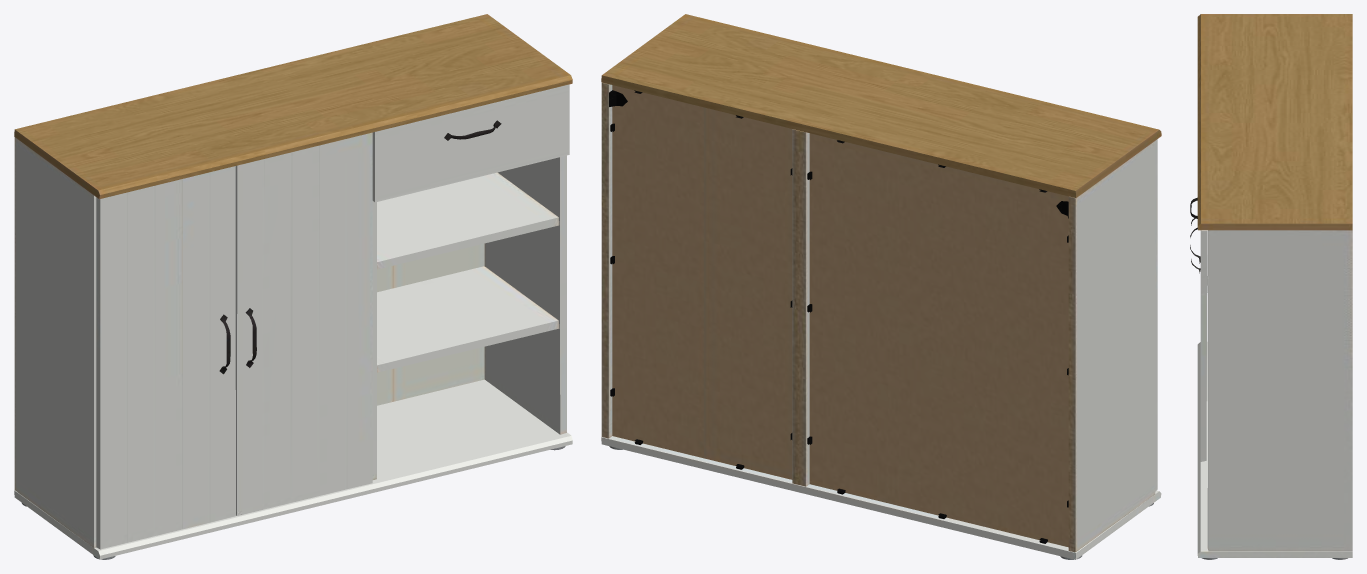
Rendered from 16 - SKRUVBY Sideboard - white 120x38x90 cm.glb.
3 views of the same model, side by side, from view 1: azimuth 30°, elevation 25°; view 2: azimuth 150°, elevation 25°; view 3: azimuth 270°, elevation 25° (orthographic). The views are drawn at different scales.
Visible parts, largest first — view 1: 60568725-SKRUVBY001; view 2: 60568725-SKRUVBY001; view 3: 60568725-SKRUVBY001.
Part boxes in pixels (box(x1,y1,x2,y2)): 60568725-SKRUVBY001: box(14, 14, 572, 559); 60568725-SKRUVBY001: box(601, 14, 1161, 559); 60568725-SKRUVBY001: box(1190, 14, 1352, 559).
Bounding box in the file's own units: 1.2 × 0.8994 × 0.3931.
Materials: 2 (2 with a texture image).
